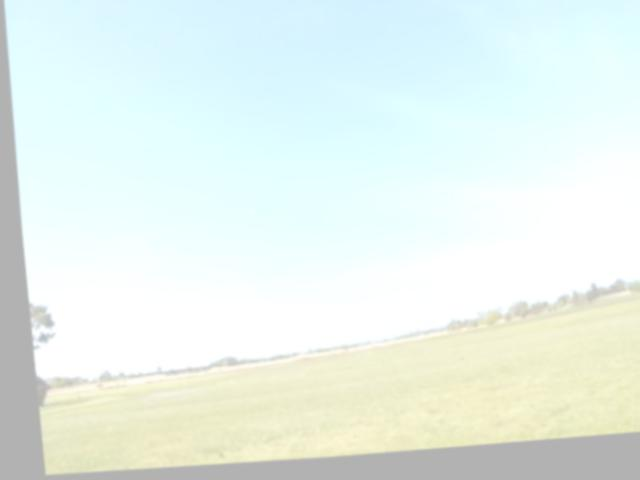uav: (237, 205, 257, 224)
